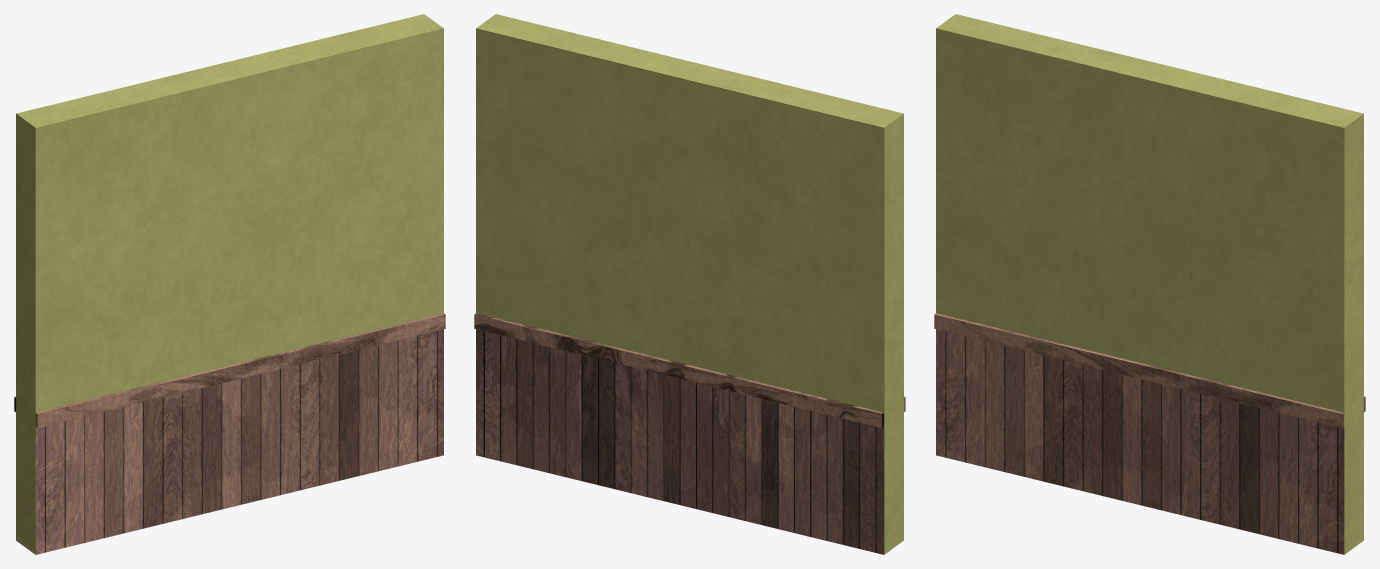
The model's file is Wall.fbx.
3 views of the same model, side by side, from view 1: azimuth 30°, elevation 25°; view 2: azimuth 150°, elevation 25°; view 3: azimuth 330°, elevation 25° (orthographic).
Visible parts, largest first — view 1: Wall_Baked; view 2: Wall_Baked; view 3: Wall_Baked.
Boxes of the visible parts, x1=… form: Wall_Baked: x1=14, y1=14, x2=445, y2=554; Wall_Baked: x1=474, y1=14, x2=905, y2=554; Wall_Baked: x1=934, y1=14, x2=1365, y2=554.
Bounding box in the file's own units: 300 × 300 × 30.
1 material, 1 textured.
